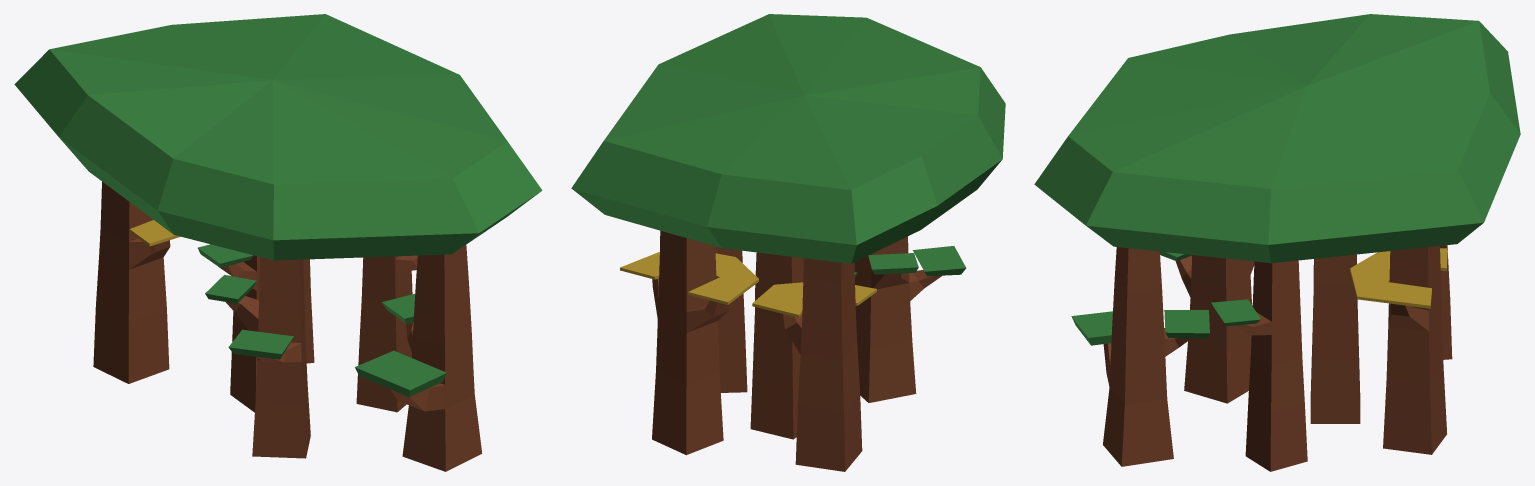
File: forest.fbx
3 views of the same model, side by side, from view 1: azimuth 30°, elevation 25°; view 2: azimuth 150°, elevation 25°; view 3: azimuth 270°, elevation 25° (orthographic). The views are drawn at different scales.
Parts seen in each view (by area): view 1: Plane; view 2: Plane; view 3: Plane.
Boxes of the visible parts, x1,y1,x2,y2 form: Plane: (14, 14, 542, 471); Plane: (571, 14, 1005, 471); Plane: (1034, 14, 1520, 471).
Size of the model in its own units: 26.51 by 30.72 by 22.73.
